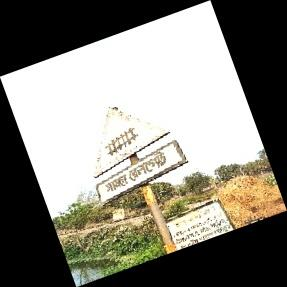Rail-crossing: (93, 107, 187, 206)
